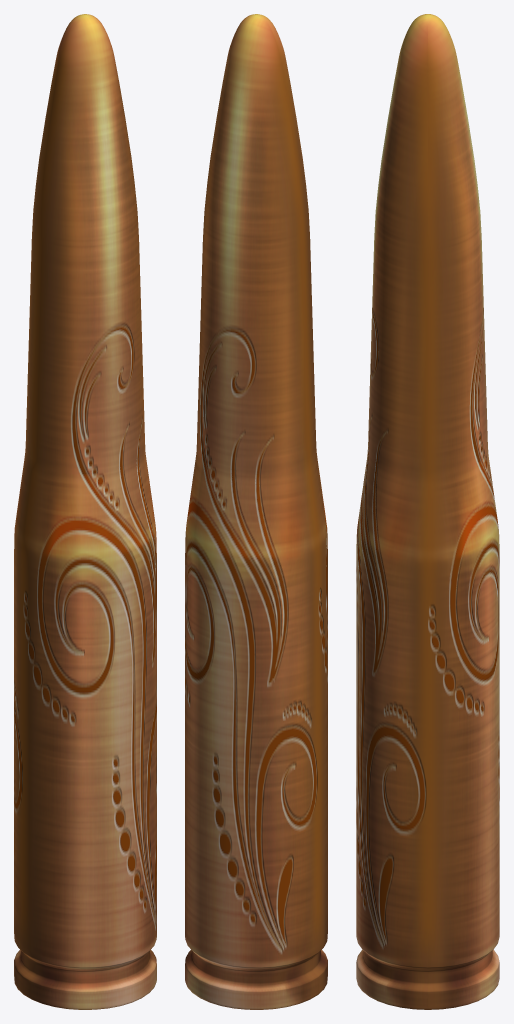
Rendered from bullet_snipe.fbx.
The picture shows the model from 3 angles, left to right: view 1: azimuth 30°, elevation 25°; view 2: azimuth 150°, elevation 25°; view 3: azimuth 270°, elevation 25°; orthographic projection.
Visible parts, largest first — view 1: bullet5; view 2: bullet5; view 3: bullet5.
Part boxes in pixels (left/top/right/bottom): bullet5: left=14, top=14, right=156, bottom=1009; bullet5: left=185, top=14, right=327, bottom=1009; bullet5: left=356, top=14, right=499, bottom=1009.
Bounding box in the file's own units: 1.12 × 8.33 × 1.12.
Materials: 1 (1 with a texture image).
